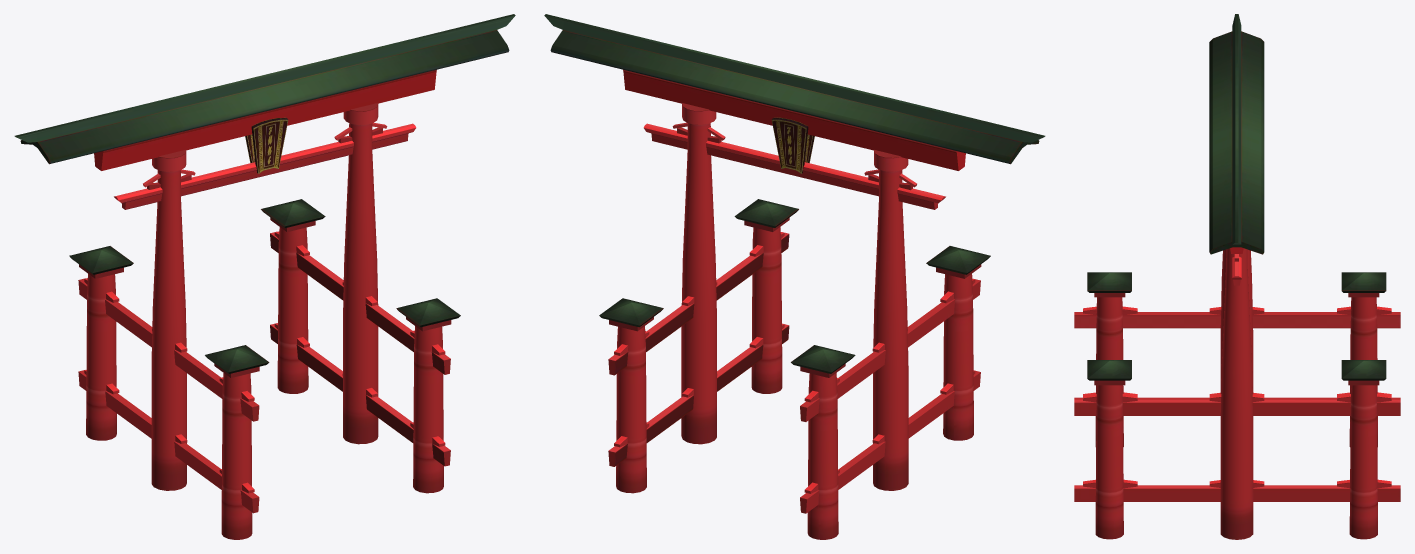
Rendered from japanese_archway.glb.
The picture shows the model from 3 angles, left to right: view 1: azimuth 30°, elevation 25°; view 2: azimuth 150°, elevation 25°; view 3: azimuth 270°, elevation 25°; orthographic projection. The views are drawn at different scales.
Visible parts, largest first — view 1: archway; view 2: archway; view 3: archway.
Part boxes in pixels (x1,y1,x2,y2): archway: (14, 14, 515, 539); archway: (544, 14, 1045, 539); archway: (1074, 14, 1400, 539).
Bounding box in the file's own units: 9.57 × 7.04 × 5.77.
1 material, 1 textured.
